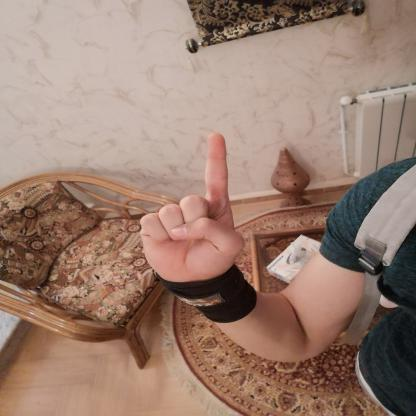BAA: (129, 128, 255, 296)
